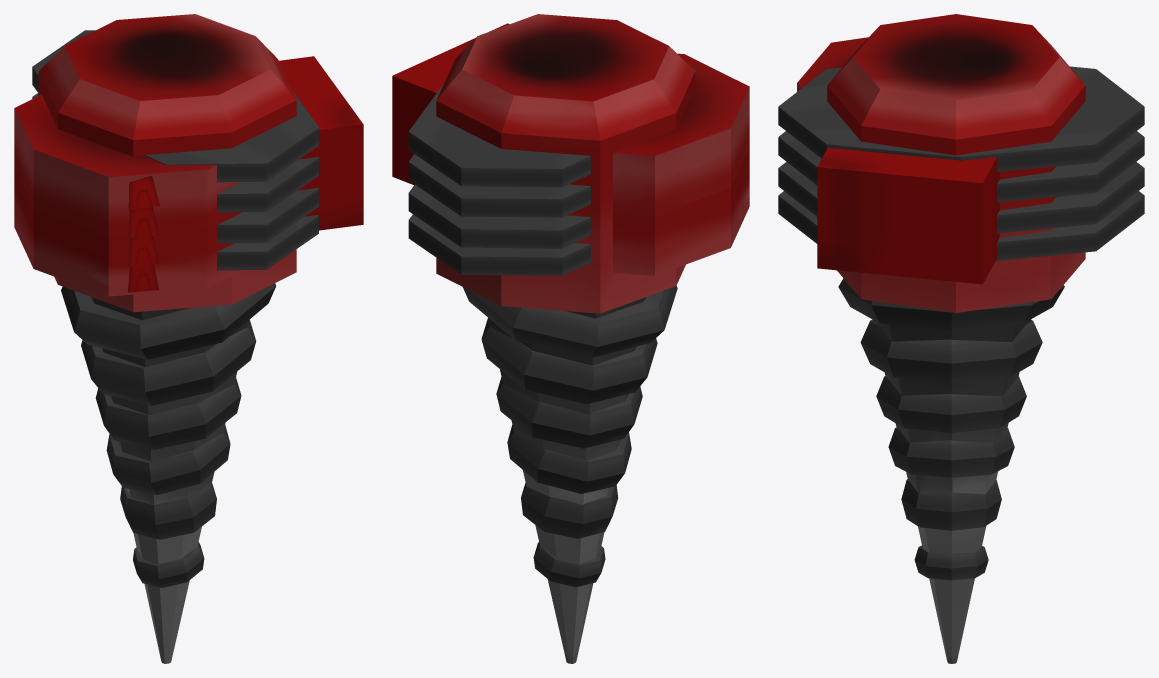
The model's file is drillcordless.glb.
The picture shows the model from 3 angles, left to right: view 1: azimuth 30°, elevation 25°; view 2: azimuth 150°, elevation 25°; view 3: azimuth 270°, elevation 25°; orthographic projection.
Visible parts, largest first — view 1: TDM drill_0; view 2: TDM drill_0; view 3: TDM drill_0.
Boxes of the visible parts, left/top/right/bottom form: TDM drill_0: left=14, top=14, right=363, bottom=663; TDM drill_0: left=392, top=14, right=749, bottom=663; TDM drill_0: left=778, top=14, right=1144, bottom=663.
Size of the model in its own units: 4.99 by 9.29 by 5.08.
Materials: 5 (5 with a texture image).
